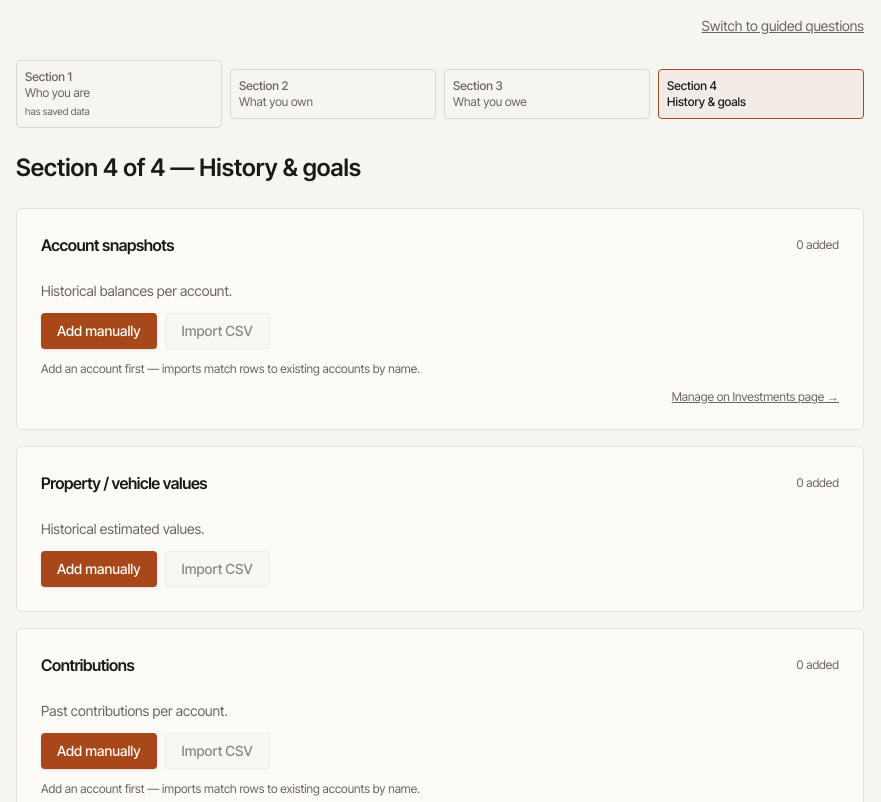
Test: SetupWizard route handler › D2: the toggle under ?section=N clears the param and reaches the worded flow
The width and height of the screenshot is (881, 802).
expect the heading "Section 4 of 4 — History & goals" is shown: met, box [16, 153, 361, 182]
Click the button "Switch to guided questions".
click(783, 26)  # box [702, 16, 864, 36]
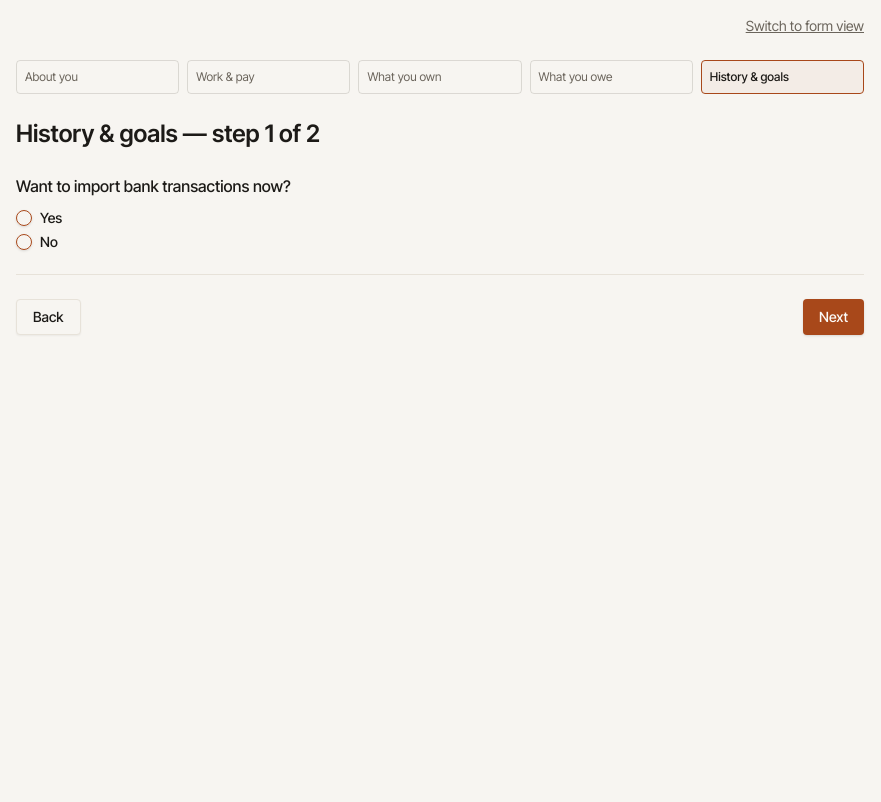
expect the heading "History & goals — step 1 of 2" is shown: met, box [16, 119, 320, 148]
expect the button "Switch to form view" is shown: met, box [746, 16, 864, 36]
